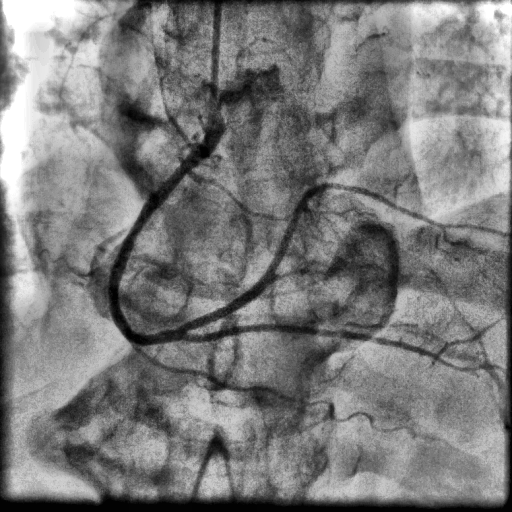pborca: (182, 184, 501, 331)
pda: (180, 325, 504, 371)
rca: (108, 120, 226, 346)
